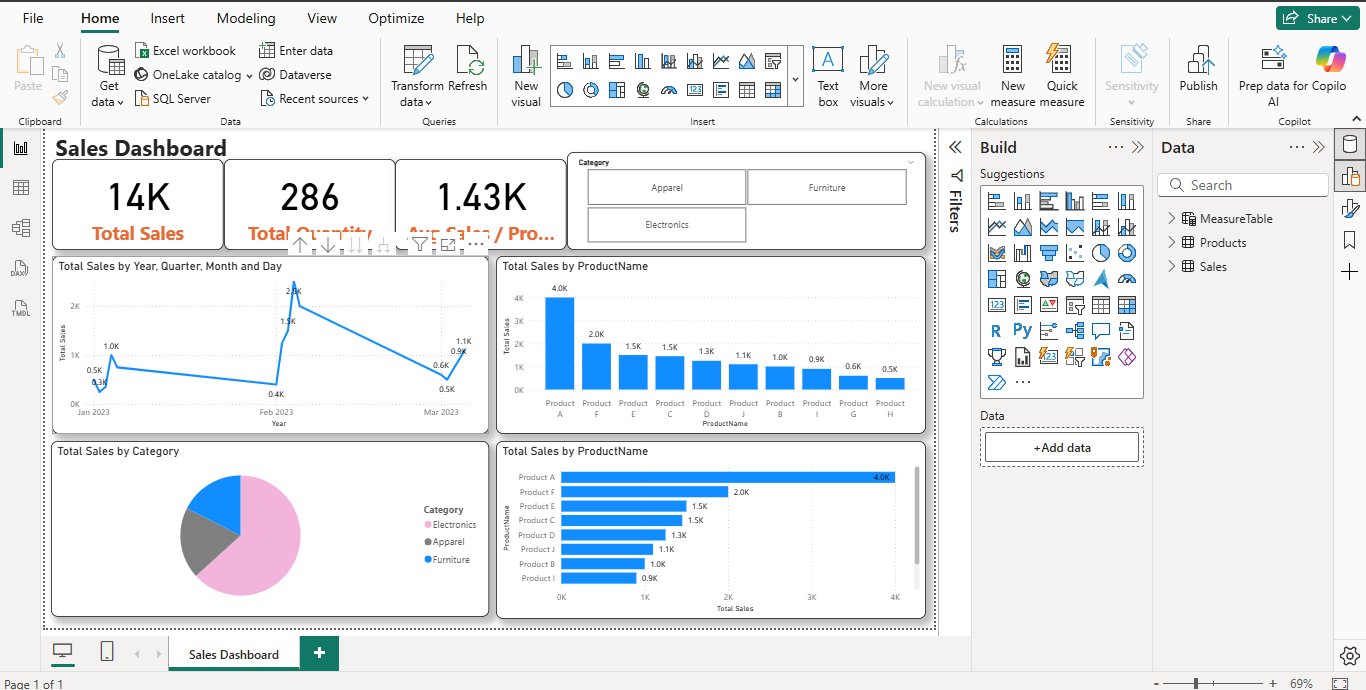

This screenshot's page, from the dashboard's own definition file:
{"tool":"powerbi","page":{"name":"Sales Dashboard","canvas":[1280,720],"ordinal":0},"visuals":[{"type":"textbox","box":[10.5,0,279.2,57.9],"z":0},{"type":"card","fields":{"Values":["MeasureTable.Total Sales"]},"box":[10.7,44.7,246.7,130.5],"z":1},{"type":"card","fields":{"Values":["MeasureTable.Total Quantity"]},"box":[257.4,44.7,246.7,130.5],"z":2},{"type":"card","fields":{"Values":["MeasureTable.Avg Sales per Product"]},"box":[504.1,44.7,246.7,130.5],"z":3},{"type":"slicer","fields":{"Values":["Products.Category"]},"box":[751.7,34.6,517,141.1],"z":4},{"type":"lineChart","fields":{"Y":["MeasureTable.Total Sales"],"Category":["Sales.Date.Variation.Date Hierarchy.Year","Sales.Date.Variation.Date Hierarchy.Quarter","Sales.Date.Variation.Date Hierarchy.Month","Sales.Date.Variation.Date Hierarchy.Day"]},"box":[10.1,184.3,629.3,256.3],"z":5},{"type":"columnChart","fields":{"Y":["MeasureTable.Total Sales"],"Category":["Products.ProductName"]},"box":[649.4,184.3,619.2,256.3],"z":6},{"type":"pieChart","fields":{"Y":["MeasureTable.Total Sales"],"Category":["Products.Category"]},"box":[8.6,450.7,630.7,253.4],"z":7},{"type":"clusteredBarChart","fields":{"Category":["Products.ProductName"],"Y":["MeasureTable.Total Sales"]},"box":[649.4,450.7,619.2,256.3],"z":8}]}

Visuals, with their boxes on the page's 1280x720 design canvas (x1, y1, x2, y2). These are canvas units, not pixel positions in the 1366x690 screenshot, which may show the page scaled, cropped or inside an application window:
textbox: x1=10 y1=0 x2=290 y2=58
card - MeasureTable.Total Sales: x1=11 y1=45 x2=257 y2=175
card - MeasureTable.Total Quantity: x1=257 y1=45 x2=504 y2=175
card - MeasureTable.Avg Sales per Product: x1=504 y1=45 x2=751 y2=175
slicer - Products.Category: x1=752 y1=35 x2=1269 y2=176
lineChart - MeasureTable.Total Sales x Sales.Date.Variation.Date Hierarchy.Year: x1=10 y1=184 x2=639 y2=441
columnChart - MeasureTable.Total Sales x Products.ProductName: x1=649 y1=184 x2=1269 y2=441
pieChart - MeasureTable.Total Sales x Products.Category: x1=9 y1=451 x2=639 y2=704
clusteredBarChart - Products.ProductName x MeasureTable.Total Sales: x1=649 y1=451 x2=1269 y2=707
